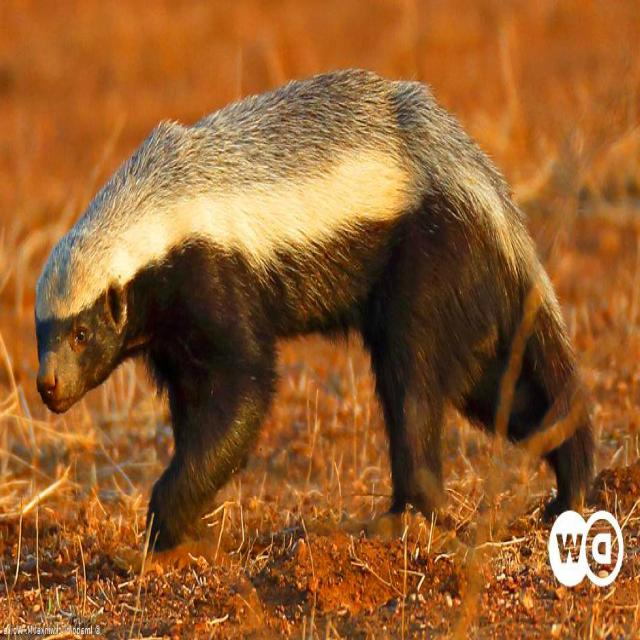badger: (36, 69, 595, 550)
